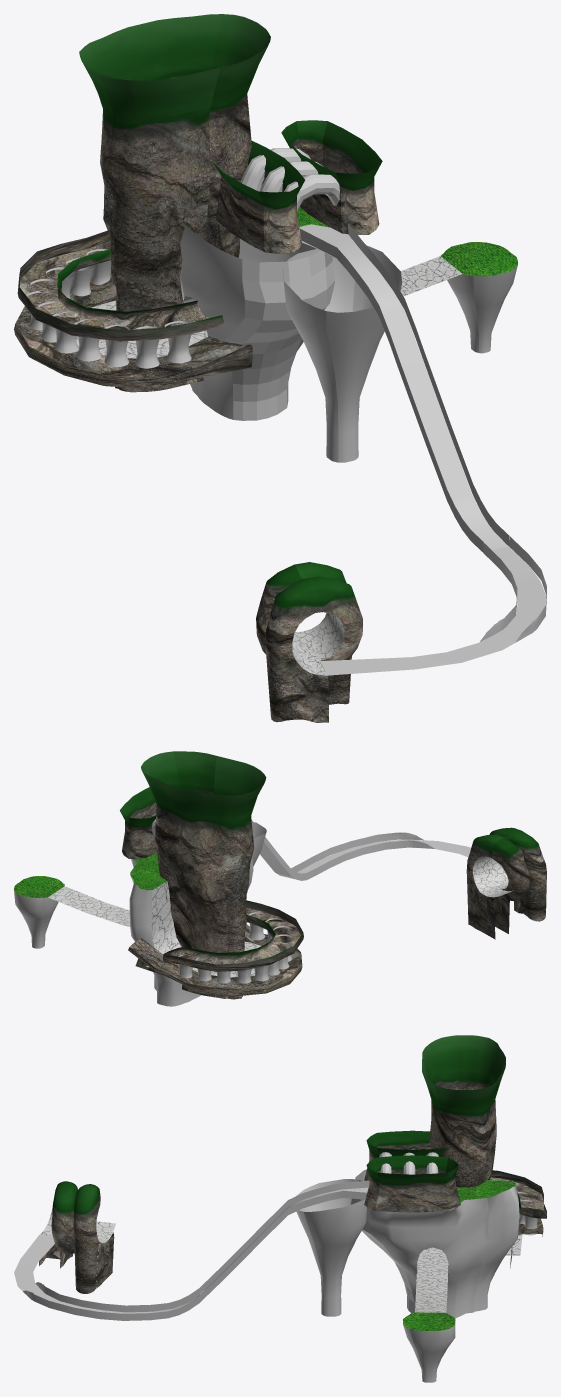
The model's file is mountains 3.fbx.
The picture shows the model from 3 angles, top to bottom: view 1: azimuth 30°, elevation 25°; view 2: azimuth 150°, elevation 25°; view 3: azimuth 270°, elevation 25°; orthographic projection. The views are drawn at different scales.
Parts seen in each view (by area): view 1: BigTop_moutain, BigBaseMountian, pTorus5, SideThin_Mountain, Curve_on_pilars, Road_Down, Curve_on_pilars_bottom, Wall_1, Wall_2, Road2Loop, SideThin_Mountain1, SmallWall_1 (+6 smaller); view 2: BigTop_moutain, pTorus5, Curve_on_pilars, Curve_on_pilars_bottom, BigBaseMountian, Wall_1, pPlane2, Ramp, SideThin_Mountain1, pPlane3, pPlane5, pPlane4 (+6 smaller); view 3: BigBaseMountian, BigTop_moutain, pTorus5, SideThin_Mountain, Wall_1, pPlane2, SmallWall_1, SmallWall_2, Wall_2, SideThin_Mountain1, Road2Loop, Curve_on_pilars (+6 smaller).
Boxes of the visible parts, x1,y1,x2,y2 form: BigTop_moutain: (79,14,270,392); BigBaseMountian: (180,226,351,420); pTorus5: (256,562,362,722); SideThin_Mountain: (282,246,402,462); Curve_on_pilars: (17,230,224,341); Road_Down: (299,224,507,550); Curve_on_pilars_bottom: (14,272,252,388); Wall_1: (281,120,382,234); Wall_2: (213,140,304,253); Road2Loop: (319,546,546,675); SideThin_Mountain1: (447,265,517,353); SmallWall_1: (300,229,483,552); BigTop_moutain: (141,751,266,999); pTorus5: (466,827,546,939); Curve_on_pilars: (163,900,303,971); Curve_on_pilars_bottom: (128,924,302,996); BigBaseMountian: (129,857,253,1006); Wall_1: (120,787,156,858); pPlane2: (48,886,261,977); Ramp: (151,881,181,953); SideThin_Mountain1: (14,891,58,948); pPlane3: (472,856,513,897); pPlane5: (298,832,423,871); pPlane4: (315,840,434,875); BigBaseMountian: (350,1169,519,1318); BigTop_moutain: (422,1035,505,1274); pTorus5: (39,1181,114,1293); SideThin_Mountain: (296,1179,366,1316); Wall_1: (364,1155,460,1212); pPlane2: (415,1234,522,1312); SmallWall_1: (151,1180,369,1311); SmallWall_2: (151,1190,366,1319); Wall_2: (364,1130,447,1180); SideThin_Mountain1: (403,1312,455,1382); Road2Loop: (14,1235,151,1313); Curve_on_pilars: (490,1170,546,1218).
Size of the model in its own units: 49.77 by 37.51 by 67.34.
